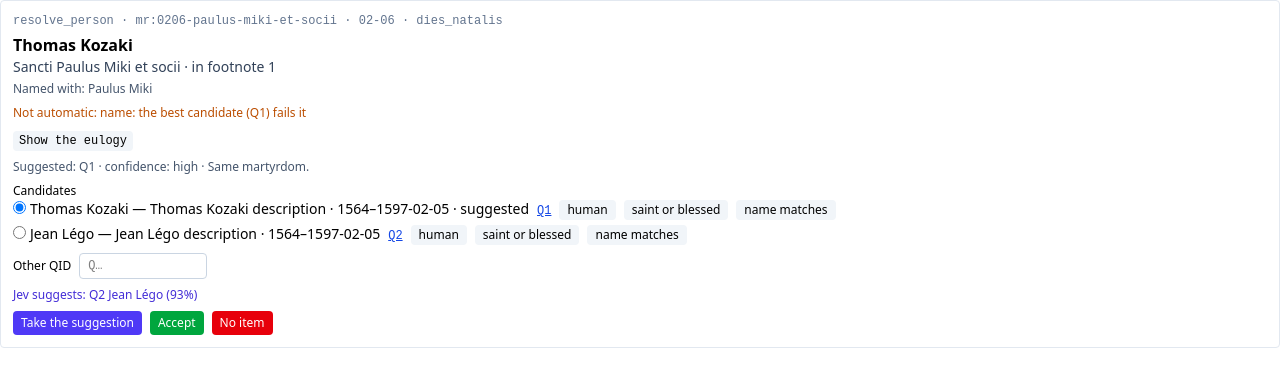
it: PersonCard, from the review of #113 › sources and Jev › puts Take first in the button row, under the hint and the candidates; the reject form replaces the row
Click the button "No item" at [242, 323], box [212,311,272,335]
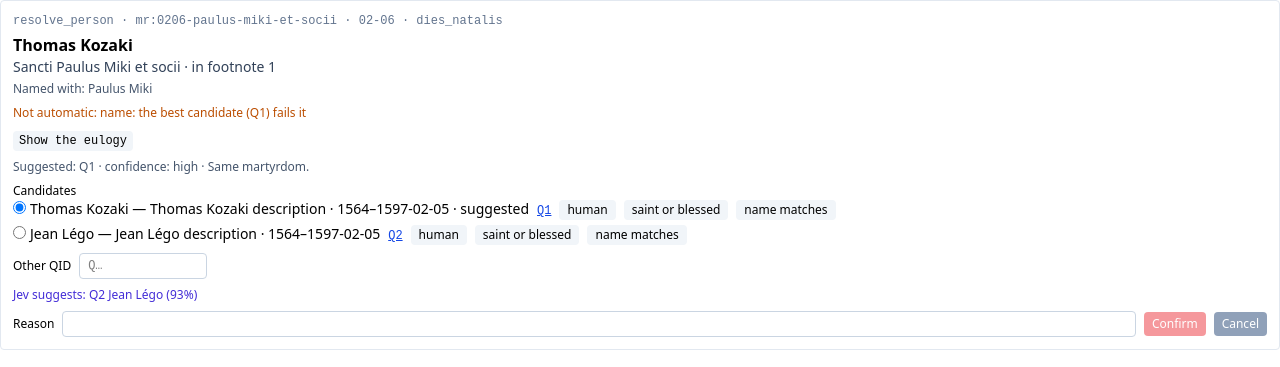
Check: the button "Take the suggestion" is gone
